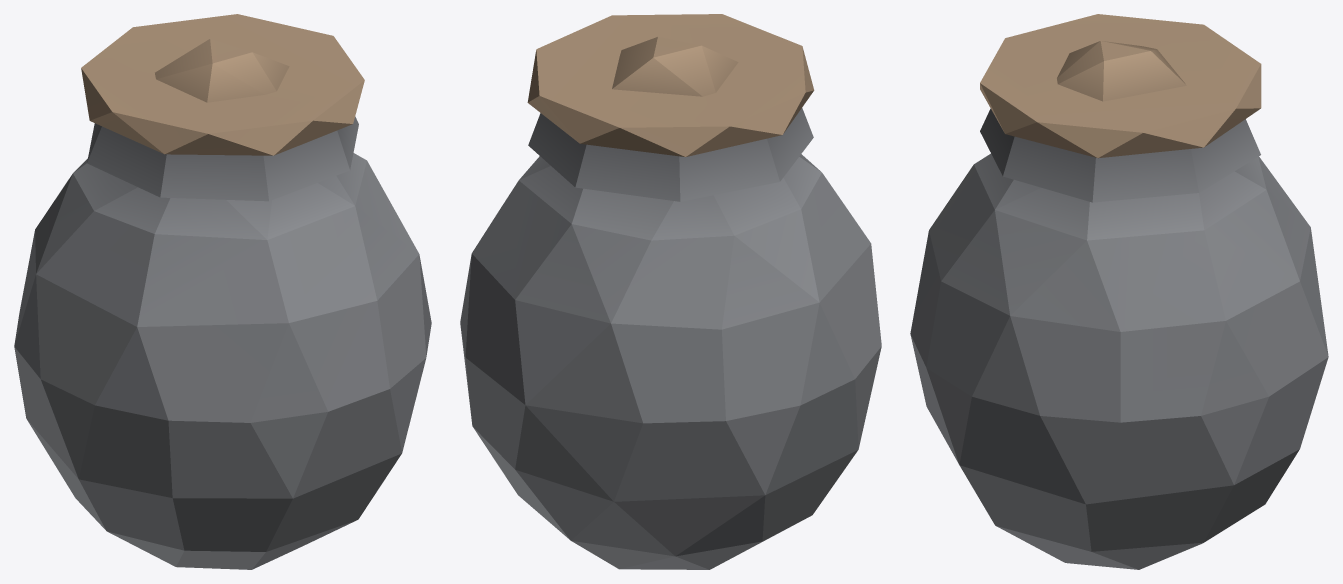
The model's file is furn_onggi__charcoal_low.glb.
3 views of the same model, side by side, from view 1: azimuth 30°, elevation 25°; view 2: azimuth 150°, elevation 25°; view 3: azimuth 270°, elevation 25° (orthographic).
Bounding box in the file's own units: 0.6 × 0.7922 × 0.5969.
